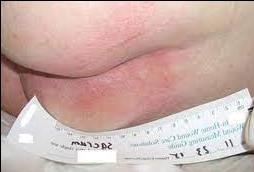Stage1: (36, 8, 174, 115)
